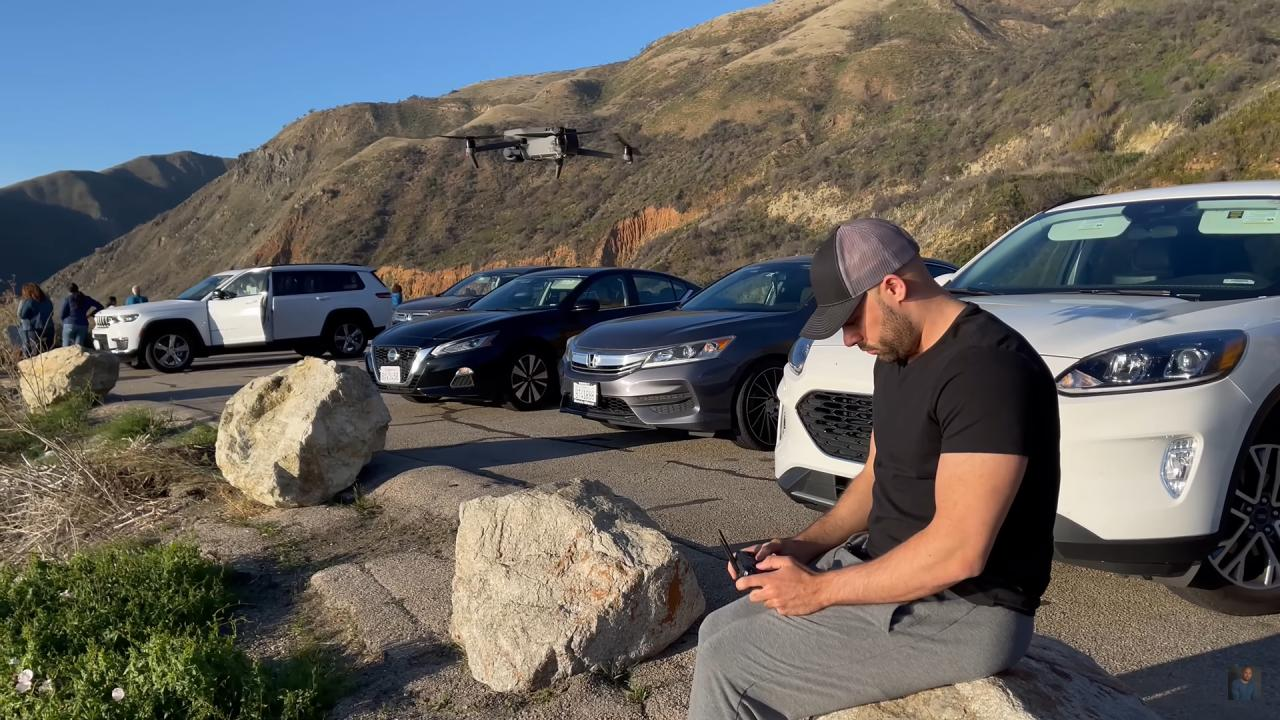Drone: (429, 112, 654, 190)
